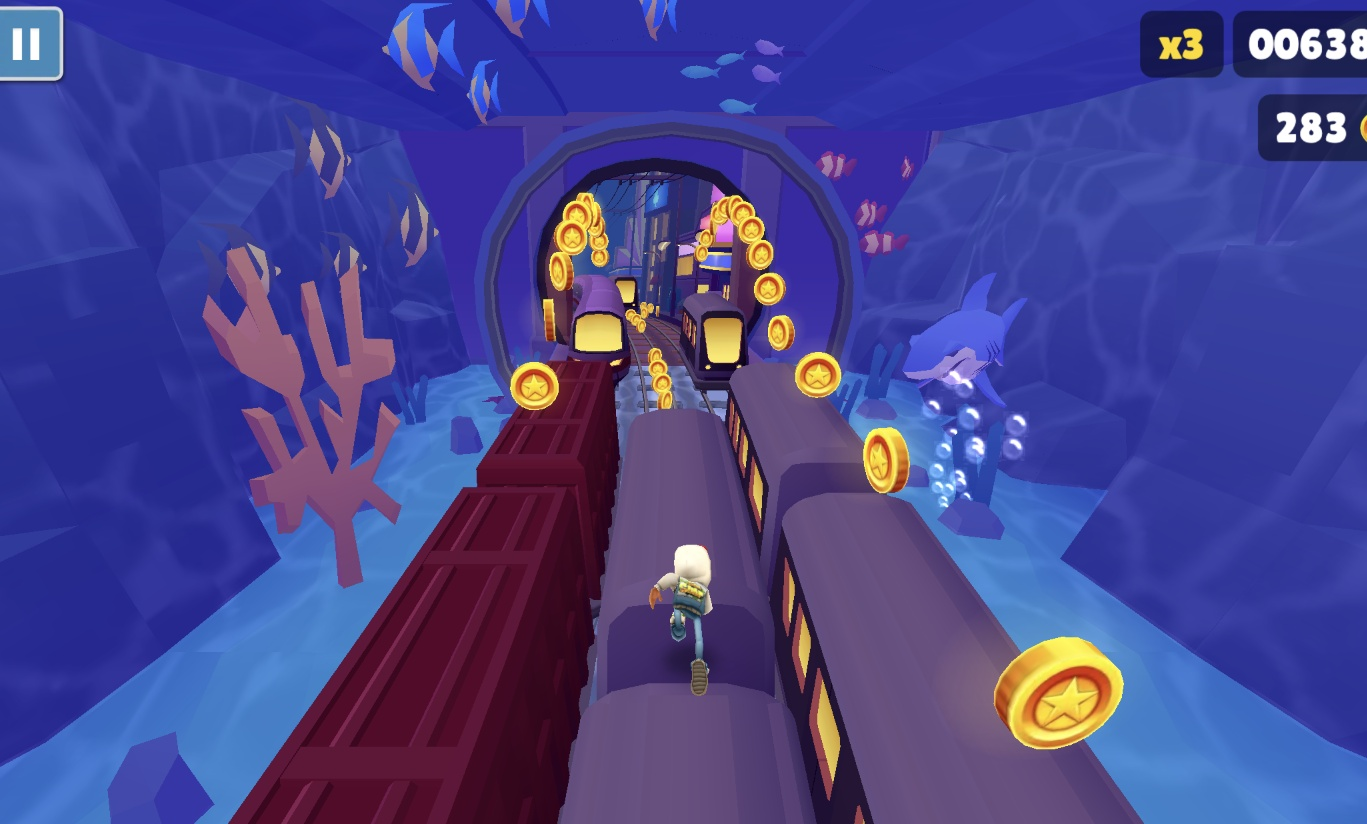train: (730, 365, 1147, 824), (230, 355, 626, 824), (550, 411, 825, 824), (559, 277, 635, 378), (682, 291, 755, 391), (609, 274, 640, 319)
